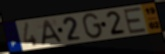2: (105, 11, 128, 37), (63, 16, 85, 43)
4: (23, 22, 39, 48)
A: (40, 18, 63, 46)
E: (122, 6, 148, 35)
G: (82, 12, 104, 40)
